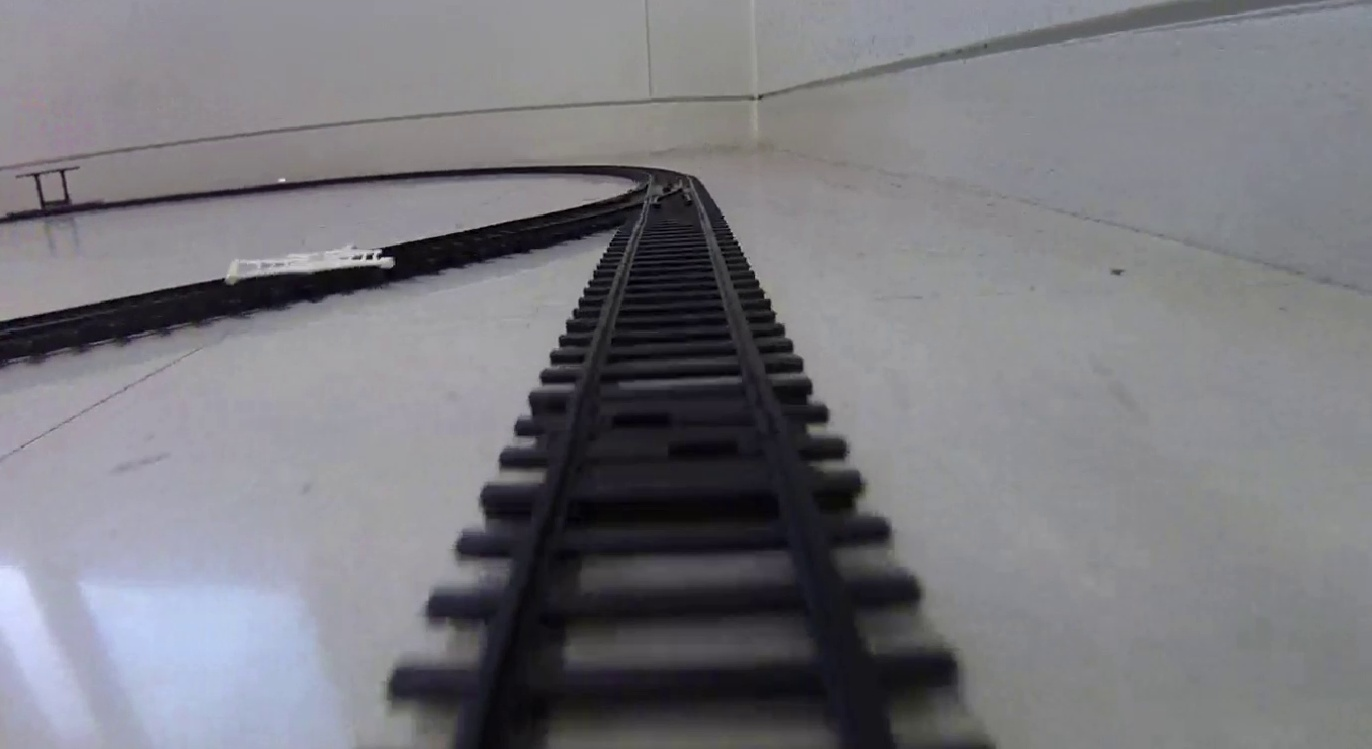web: (227, 244, 396, 282)
